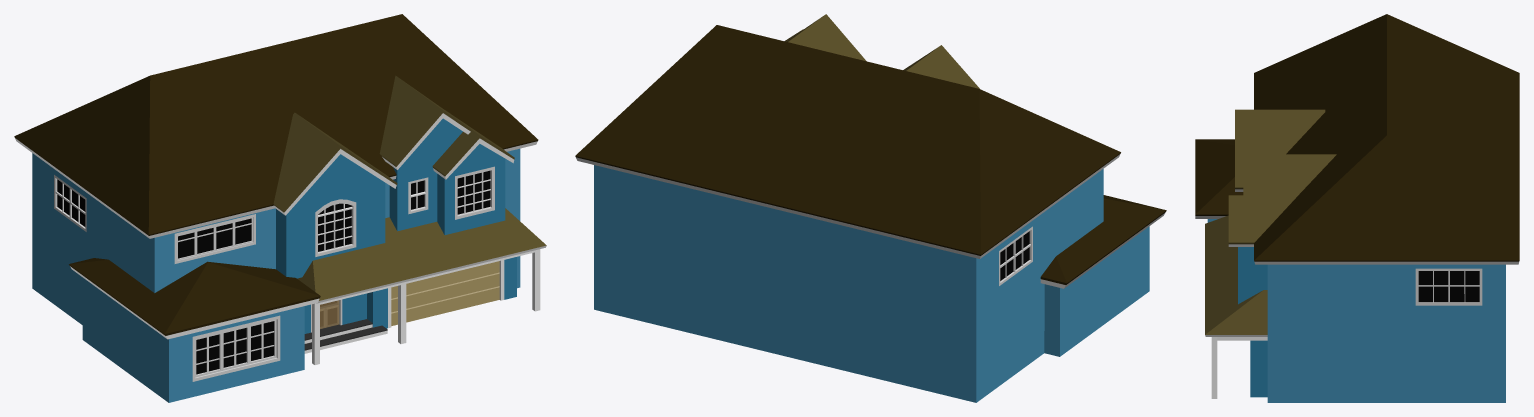
File: House-36.fbx
The picture shows the model from 3 angles, left to right: view 1: azimuth 30°, elevation 25°; view 2: azimuth 150°, elevation 25°; view 3: azimuth 270°, elevation 25°; orthographic projection. The views are drawn at different scales.
Visible parts, largest first — view 1: House-20-h; view 2: House-20-h; view 3: House-20-h.
Part boxes in pixels (<box>): House-20-h: <box>14,14,546,402</box>; House-20-h: <box>575,14,1166,402</box>; House-20-h: <box>1195,14,1519,402</box>.
Size of what is drawn, in the model's own units: 19.58 by 11.27 by 13.81.
